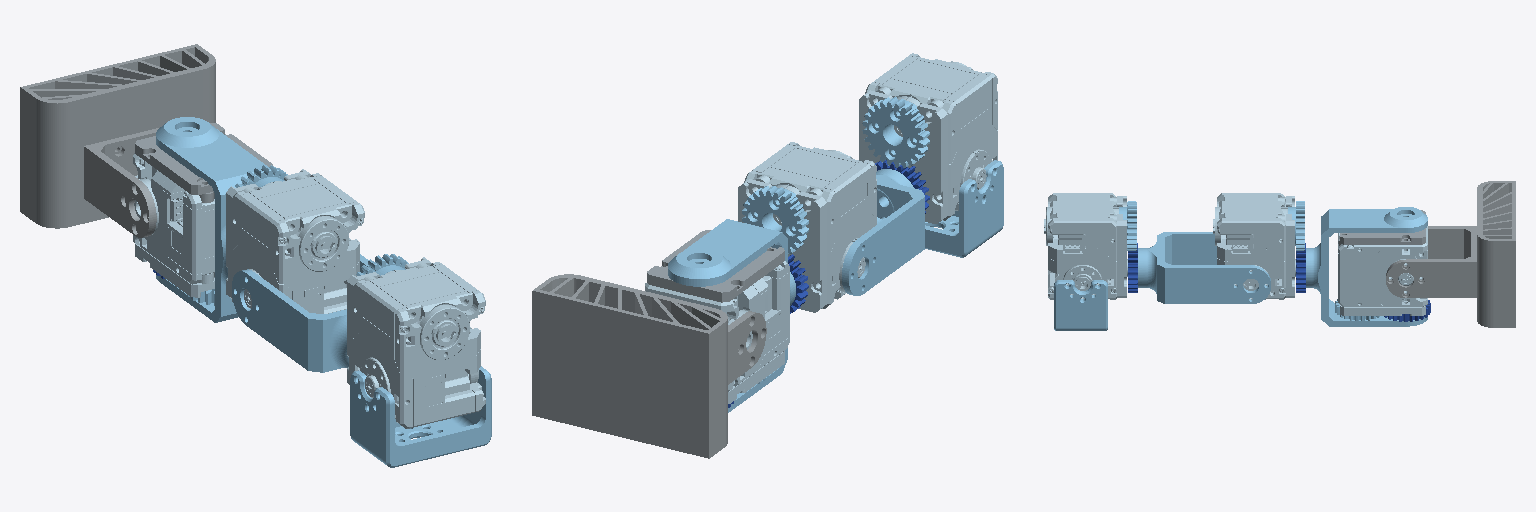
URDF robot description (right_arm_umi):
<?xml version="1.0" ?><robot name="right_arm_umi">  
  <link name="sho_pitch_link">    
    <visual>      
      <origin xyz="0 0 0" rpy="0 -0 0"/>      
      <geometry>        
        <mesh filename="package:///meshes/right_sho_pitch_link_visual.stl"/>        
      </geometry>      
      <material name="sho_pitch_link_material">        
        <color rgba="0.61568627450980395466 0.81176470588235294379 0.92941176470588227065 1.0"/>        
      </material>      
    </visual>    
    <collision>      
      <origin xyz="0 0 0" rpy="0 -0 0"/>      
      <geometry>        
        <mesh filename="package:///meshes/right_sho_pitch_link_collision.stl"/>        
      </geometry>      
    </collision>    
    <inertial>      
      <origin xyz="5.8254248488936148346e-11 -5.1264642561121013175e-05 0.0082440788127094866838" rpy="0 0 0"/>      
      <mass value="0.0085999999999999948014"/>      
      <inertia ixx="1.2272887040545789755e-06" ixy="-2.1429944218861188293e-14" ixz="-8.5847198874678704984e-15" iyy="2.9107306060364611617e-06" iyz="7.4623841398182935117e-09" izz="3.0803135950773483457e-06"/>      
    </inertial>    
  </link>  

  <link name="2xl430_gears">    
    <visual>      
      <origin xyz="0 0 0" rpy="0 -0 0"/>      
      <geometry>        
        <mesh filename="package:///meshes/right_2xl430_gears_visual.stl"/>        
      </geometry>      
      <material name="2xl430_gears_material">        
        <color rgba="0.75605985687944088358 0.8580469596269301169 0.91320266199377453376 1.0"/>        
      </material>      
    </visual>    
    <collision>      
      <origin xyz="0 0 0" rpy="0 -0 0"/>      
      <geometry>        
        <mesh filename="package:///meshes/right_2xl430_gears_collision.stl"/>        
      </geometry>      
    </collision>    
    <inertial>      
      <origin xyz="-0.01157940398103430267 -0.0024225766141400448782 -0.018551095523803726173" rpy="0 0 0"/>      
      <mass value="0.11800003674524907338"/>      
      <inertia ixx="2.7482298083236302076e-05" ixy="9.2729623432968067728e-07" ixz="-2.2634512004040956434e-08" iyy="3.2770742486672703063e-05" iyz="-6.5708346020122205624e-07" izz="3.576795754405448258e-05"/>      
    </inertial>    
  </link>  

  <link name="spur_1m_24t_drive">    
    <visual>      
      <origin xyz="0 0 0" rpy="0 -0 0"/>      
      <geometry>        
        <mesh filename="package:///meshes/right_spur_1m_24t_drive_visual.stl"/>        
      </geometry>      
      <material name="spur_1m_24t_drive_material">        
        <color rgba="0.61568627450980406568 0.81176470588235294379 0.92941176470588238168 1.0"/>        
      </material>      
    </visual>    
    <collision>      
      <origin xyz="0 0 0" rpy="0 -0 0"/>      
      <geometry>        
        <mesh filename="package:///meshes/right_spur_1m_24t_drive_collision.stl"/>        
      </geometry>      
    </collision>    
    <inertial>      
      <origin xyz="-7.7519812112133453554e-15 -1.211739839181388264e-16 0.0047949116178401416863" rpy="0 0 0"/>      
      <mass value="0.0032000000000000001533"/>      
      <inertia ixx="1.4019331346159887702e-07" ixy="1.6002409988709471321e-15" ixz="3.9304399768732877458e-37" iyy="1.4019331260388783538e-07" iyz="-1.2977944534665672243e-36" izz="2.3838919844264055353e-07"/>      
    </inertial>    
  </link>  

  <joint name="right_sho_yaw_drive" type="revolute">    
    <origin xyz="-0.024000000716138260304 -0.019000000152445337132 -0.019000000152448428409" rpy="1.5707963267949289765 -7.4062049324254792929e-14 1.9645226351351914911e-14"/>    
    <parent link="2xl430_gears"/>    
    <child link="spur_1m_24t_drive"/>    
    <axis xyz="0 0 1"/>    
    <limit effort="1" velocity="20" lower="-2.6179938779914944114" upper="2.6179938779914944114"/>    
    <joint_properties friction="0.0"/>    
  </joint>  

  <link name="spur_1m_24t_driven">    
    <visual>      
      <origin xyz="0 0 0" rpy="0 -0 0"/>      
      <geometry>        
        <mesh filename="package:///meshes/right_spur_1m_24t_driven_visual.stl"/>        
      </geometry>      
      <material name="spur_1m_24t_driven_material">        
        <color rgba="0.23137254901960788156 0.38039215686274507888 0.7058823529411765163 1.0"/>        
      </material>      
    </visual>    
    <collision>      
      <origin xyz="0 0 0" rpy="0 -0 0"/>      
      <geometry>        
        <mesh filename="package:///meshes/right_spur_1m_24t_driven_collision.stl"/>        
      </geometry>      
    </collision>    
    <inertial>      
      <origin xyz="1.9568650841840569678e-18 -5.8047591274094464977e-15 -0.00097054817521928168911" rpy="0 0 0"/>      
      <mass value="0.0027000000000000001429"/>      
      <inertia ixx="1.2036234079571068356e-07" ixy="0" ixz="0" iyy="1.203623407957104718e-07" iyz="-3.1156039432683315858e-37" izz="2.2847261745924537963e-07"/>      
    </inertial>    
  </link>  

  <link name="sho_yaw_link">    
    <visual>      
      <origin xyz="0 0 0" rpy="0 -0 0"/>      
      <geometry>        
        <mesh filename="package:///meshes/right_sho_yaw_link_visual.stl"/>        
      </geometry>      
      <material name="sho_yaw_link_material">        
        <color rgba="0.61568627450980395466 0.81176470588235294379 0.92941176470588238168 1.0"/>        
      </material>      
    </visual>    
    <collision>      
      <origin xyz="0 0 0" rpy="0 -0 0"/>      
      <geometry>        
        <mesh filename="package:///meshes/right_sho_yaw_link_collision.stl"/>        
      </geometry>      
    </collision>    
    <inertial>      
      <origin xyz="-1.2817564279971509767e-18 3.4652731864608208346e-18 -0.024303257848520165574" rpy="0 0 0"/>      
      <mass value="0.01450000000000000594"/>      
      <inertia ixx="9.084667005304133196e-06" ixy="3.6224092806478127158e-13" ixz="3.9531863547364856443e-44" iyy="5.6910950712097499617e-06" iyz="-5.7484978336446655927e-36" izz="4.4819609845548958989e-06"/>      
    </inertial>    
  </link>  

  <link name="2xl430_gears_2">    
    <visual>      
      <origin xyz="0 0 0" rpy="0 -0 0"/>      
      <geometry>        
        <mesh filename="package:///meshes/right_2xl430_gears_2_visual.stl"/>        
      </geometry>      
      <material name="2xl430_gears_2_material">        
        <color rgba="0.75605985687944088358 0.8580469596269301169 0.91320266199377453376 1.0"/>        
      </material>      
    </visual>    
    <collision>      
      <origin xyz="0 0 0" rpy="0 -0 0"/>      
      <geometry>        
        <mesh filename="package:///meshes/right_2xl430_gears_2_collision.stl"/>        
      </geometry>      
    </collision>    
    <inertial>      
      <origin xyz="-0.011579403981040211138 -0.0024225766141398297725 -0.018551095523805887638" rpy="0 0 0"/>      
      <mass value="0.11800003674524907338"/>      
      <inertia ixx="2.7482298083237701375e-05" ixy="9.2729623432883406785e-07" ixz="-2.2634512003742370703e-08" iyy="3.2770742486673692397e-05" iyz="-6.5708346020153175266e-07" izz="3.5767957544055729413e-05"/>      
    </inertial>    
  </link>  

  <link name="spur_1m_24t_drive_2">    
    <visual>      
      <origin xyz="0 0 0" rpy="0 -0 0"/>      
      <geometry>        
        <mesh filename="package:///meshes/right_spur_1m_24t_drive_2_visual.stl"/>        
      </geometry>      
      <material name="spur_1m_24t_drive_2_material">        
        <color rgba="0.61568627450980406568 0.81176470588235294379 0.92941176470588238168 1.0"/>        
      </material>      
    </visual>    
    <collision>      
      <origin xyz="0 0 0" rpy="0 -0 0"/>      
      <geometry>        
        <mesh filename="package:///meshes/right_spur_1m_24t_drive_2_collision.stl"/>        
      </geometry>      
    </collision>    
    <inertial>      
      <origin xyz="-7.7519812112133453554e-15 -1.2117398391813862919e-16 0.0047949116178401382168" rpy="0 0 0"/>      
      <mass value="0.0032000000000000001533"/>      
      <inertia ixx="1.4019331346159887702e-07" ixy="1.6002409935589451508e-15" ixz="1.166776181933880567e-37" iyy="1.4019331260388780891e-07" iyz="2.2883938147335335647e-36" izz="2.3838919844264055353e-07"/>      
    </inertial>    
  </link>  

  <joint name="right_elbow_yaw_drive" type="revolute">    
    <origin xyz="-0.024000000716147166374 -0.019000000152450874369 -0.019000000152450291502" rpy="1.5707963267949573982 3.0456550330441217593e-14 -3.9968028886506279166e-14"/>    
    <parent link="2xl430_gears_2"/>    
    <child link="spur_1m_24t_drive_2"/>    
    <axis xyz="0 0 1"/>    
    <limit effort="1" velocity="20" lower="-2.6179938779914944114" upper="2.6179938779914944114"/>    
    <joint_properties friction="0.0"/>    
  </joint>  

  <link name="spur_1m_24t_driven_2">    
    <visual>      
      <origin xyz="0 0 0" rpy="0 -0 0"/>      
      <geometry>        
        <mesh filename="package:///meshes/right_spur_1m_24t_driven_2_visual.stl"/>        
      </geometry>      
      <material name="spur_1m_24t_driven_2_material">        
        <color rgba="0.23137254901960788156 0.38039215686274507888 0.7058823529411765163 1.0"/>        
      </material>      
    </visual>    
    <collision>      
      <origin xyz="0 0 0" rpy="0 -0 0"/>      
      <geometry>        
        <mesh filename="package:///meshes/right_spur_1m_24t_driven_2_collision.stl"/>        
      </geometry>      
    </collision>    
    <inertial>      
      <origin xyz="5.4263120361376707715e-18 -5.8047591274094472866e-15 -0.000970548175219288628" rpy="0 0 0"/>      
      <mass value="0.0027000000000000001429"/>      
      <inertia ixx="1.2036234079571068356e-07" ixy="3.7979658045849632459e-37" ixz="-4.956848099685618152e-67" iyy="1.203623407957104718e-07" iyz="-1.5073873856093740603e-36" izz="2.2847261745924537963e-07"/>      
    </inertial>    
  </link>  

  <link name="elb_yaw_link">    
    <visual>      
      <origin xyz="0 0 0" rpy="0 -0 0"/>      
      <geometry>        
        <mesh filename="package:///meshes/right_elb_yaw_link_visual.stl"/>        
      </geometry>      
      <material name="elb_yaw_link_material">        
        <color rgba="0.61568627450980395466 0.81176470588235294379 0.9294117647058824927 1.0"/>        
      </material>      
    </visual>    
    <collision>      
      <origin xyz="0 0 0" rpy="0 -0 0"/>      
      <geometry>        
        <mesh filename="package:///meshes/right_elb_yaw_link_collision.stl"/>        
      </geometry>      
    </collision>    
    <inertial>      
      <origin xyz="5.3127688027867315284e-08 0.0019833638641961652896 -0.023416643551549955887" rpy="0 0 0"/>      
      <mass value="0.017499999999999998196"/>      
      <inertia ixx="1.4134344903109199776e-05" ixy="1.6945783922045876267e-12" ixz="-1.1286398721773278415e-11" iyy="6.6435900776211331934e-06" iyz="1.0545227077253057579e-06" izz="8.9925290757998976773e-06"/>      
    </inertial>    
  </link>  

  <link name="spur_1m_24t_driven_3">    
    <visual>      
      <origin xyz="0 0 0" rpy="0 -0 0"/>      
      <geometry>        
        <mesh filename="package:///meshes/right_spur_1m_24t_driven_3_visual.stl"/>        
      </geometry>      
      <material name="spur_1m_24t_driven_3_material">        
        <color rgba="0.23137254901960788156 0.38039215686274507888 0.7058823529411765163 1.0"/>        
      </material>      
    </visual>    
    <collision>      
      <origin xyz="0 0 0" rpy="0 -0 0"/>      
      <geometry>        
        <mesh filename="package:///meshes/right_spur_1m_24t_driven_3_collision.stl"/>        
      </geometry>      
    </collision>    
    <inertial>      
      <origin xyz="2.9712440699812971634e-17 -5.80475912740944492e-15 -0.0025705481752192789469" rpy="0 0 0"/>      
      <mass value="0.0027000000000000001429"/>      
      <inertia ixx="1.2036234079571068356e-07" ixy="1.1860558623246110089e-36" ixz="-1.8989829022924849639e-37" iyy="1.203623407957104718e-07" iyz="-6.4797105157282552736e-67" izz="2.2847261745924537963e-07"/>      
    </inertial>    
  </link>  

  <link name="2xl430_gears_3">    
    <visual>      
      <origin xyz="0 0 0" rpy="0 -0 0"/>      
      <geometry>        
        <mesh filename="package:///meshes/right_2xl430_gears_3_visual.stl"/>        
      </geometry>      
      <material name="2xl430_gears_3_material">        
        <color rgba="0.75605985687944088358 0.8580469596269301169 0.91320266199377453376 1.0"/>        
      </material>      
    </visual>    
    <collision>      
      <origin xyz="0 0 0" rpy="0 -0 0"/>      
      <geometry>        
        <mesh filename="package:///meshes/right_2xl430_gears_3_collision.stl"/>        
      </geometry>      
    </collision>    
    <inertial>      
      <origin xyz="0.00044890447620014861923 0.011579403622967368928 -0.024577423538309432771" rpy="0 0 0"/>      
      <mass value="0.11800003674524907338"/>      
      <inertia ixx="3.5767957544056257961e-05" ixy="2.26345120036786414e-08" ixz="6.5708346020106620218e-07" iyy="2.7482298083237542132e-05" iyz="9.2729623433015798034e-07" izz="3.277074248667319773e-05"/>      
    </inertial>    
  </link>  

  <link name="spur_1m_24t_drive_3">    
    <visual>      
      <origin xyz="0 0 0" rpy="0 -0 0"/>      
      <geometry>        
        <mesh filename="package:///meshes/right_spur_1m_24t_drive_3_visual.stl"/>        
      </geometry>      
      <material name="spur_1m_24t_drive_3_material">        
        <color rgba="0.61568627450980406568 0.81176470588235294379 0.92941176470588238168 1.0"/>        
      </material>      
    </visual>    
    <collision>      
      <origin xyz="0 0 0" rpy="0 -0 0"/>      
      <geometry>        
        <mesh filename="package:///meshes/right_spur_1m_24t_drive_3_collision.stl"/>        
      </geometry>      
    </collision>    
    <inertial>      
      <origin xyz="-7.7519812112133469331e-15 -1.2117398394398822055e-16 0.004794911617840143421" rpy="0 0 0"/>      
      <mass value="0.0032000000000000001533"/>      
      <inertia ixx="1.4019331346159890349e-07" ixy="1.600241000902533359e-15" ixz="5.2970568590852521004e-37" iyy="1.4019331260388788832e-07" iyz="-7.8193745626505839794e-37" izz="2.3838919844264055353e-07"/>      
    </inertial>    
  </link>  

  <joint name="right_wrist_pitch_drive" type="revolute">    
    <origin xyz="-1.524431251168157451e-10 0.024000000358071760242 -0.0080000000000008727324" rpy="1.2483159056318501391e-14 7.3485321852726251993e-14 -1.5707963267948599206"/>    
    <parent link="2xl430_gears_3"/>    
    <child link="spur_1m_24t_drive_3"/>    
    <axis xyz="0 0 1"/>    
    <limit effort="1" velocity="20" lower="-1.3962634015954635824" upper="1.9198621771937625091"/>    
    <joint_properties friction="0.0"/>    
  </joint>  

  <link name="hand">    
    <visual>      
      <origin xyz="0 0 0" rpy="0 -0 0"/>      
      <geometry>        
        <mesh filename="package:///meshes/right_hand_visual.stl"/>        
      </geometry>      
      <material name="hand_material">        
        <color rgba="0.6414991312980887761 0.67624720774385704836 0.69709605361131787848 1.0"/>        
      </material>      
    </visual>    
    <collision>      
      <origin xyz="0 0 0" rpy="0 -0 0"/>      
      <geometry>        
        <mesh filename="package:///meshes/right_hand_collision.stl"/>        
      </geometry>      
    </collision>    
    <inertial>      
      <origin xyz="0.0037078693754091771907 -0.042127339671143439193 -0.019509671728381142858" rpy="0 0 0"/>      
      <mass value="0.039500000000000000389"/>      
      <inertia ixx="2.4635502047219017501e-05" ixy="6.2323015740443360545e-07" ixz="1.439144773675223025e-08" iyy="2.5475207221933727077e-05" iyz="-4.0870433587618317823e-08" izz="1.3466679249845197179e-05"/>      
    </inertial>    
  </link>  

  <joint name="right_wrist_roll" type="revolute">    
    <origin xyz="0.019000000000002757738 -3.5806788090120278412e-10 -0.02700000015244990309" rpy="-1.9648186021258132771e-29 1.570796326794851927 0"/>    
    <parent link="2xl430_gears_3"/>    
    <child link="hand"/>    
    <axis xyz="0 0 1"/>    
    <limit effort="1" velocity="20" lower="-1.3962634015954635824" upper="1.9198621771937625091"/>    
    <joint_properties friction="0.0"/>    
  </joint>  

  <link name="wrist_bearing_plate">    
    <visual>      
      <origin xyz="0 0 0" rpy="0 -0 0"/>      
      <geometry>        
        <mesh filename="package:///meshes/right_wrist_bearing_plate_visual.stl"/>        
      </geometry>      
      <material name="wrist_bearing_plate_material">        
        <color rgba="0.64496316278892629192 0.69011804996940517842 0.71706771073555874985 1.0"/>        
      </material>      
    </visual>    
    <collision>      
      <origin xyz="0 0 0" rpy="0 -0 0"/>      
      <geometry>        
        <mesh filename="package:///meshes/right_wrist_bearing_plate_collision.stl"/>        
      </geometry>      
    </collision>    
    <inertial>      
      <origin xyz="-0.0075835583121499801351 -0.015499999999999973868 -0.0018386323705903296743" rpy="0 0 0"/>      
      <mass value="0.0049000367468305557062"/>      
      <inertia ixx="4.9707430109150118544e-07" ixy="4.4786224830671674947e-23" ixz="1.8100904820814101422e-08" iyy="7.1268523603538584823e-07" iyz="3.6315498546128718786e-24" izz="1.1919657811600109234e-06"/>      
    </inertial>    
  </link>  

  <joint name="right_wrist_pitch_fixed" type="fixed">    
    <origin xyz="0.015500000000003956793 4.5519144009631418157e-15 -0.045000000000003724521" rpy="-3.0531133177156822825e-15 1.2051470932306205513e-13 -1.570796326794896558"/>    
    <parent link="2xl430_gears_3"/>    
    <child link="wrist_bearing_plate"/>    
    <axis xyz="0 0 1"/>    
    <limit effort="1" velocity="20"/>    
    <joint_properties friction="0.0"/>    
  </joint>  

  <joint name="right_wrist_pitch_driven" type="revolute">    
    <origin xyz="2.7755575615628913511e-17 7.0997481469891062487e-30 -0.0015999999999999970409" rpy="-3.8285686988021856593e-16 -1.2621774483536197294e-29 1.570796326794896558"/>    
    <parent link="spur_1m_24t_driven_3"/>    
    <child link="2xl430_gears_3"/>    
    <axis xyz="0 0 1"/>    
    <limit effort="1" velocity="20" lower="-1.9198621771937625091" upper="1.3962634015954635824"/>    
    <joint_properties friction="0.0"/>    
  </joint>  

  <joint name="right_wrist_roll_fixed" type="fixed">    
    <origin xyz="-7.8886090522101180541e-31 -0.025299999999999999573 -0.051999999999999976796" rpy="1.570796326794896558 1.570796326794896558 0"/>    
    <parent link="elb_yaw_link"/>    
    <child link="spur_1m_24t_driven_3"/>    
    <axis xyz="0 0 1"/>    
    <limit effort="1" velocity="20"/>    
    <joint_properties friction="0.0"/>    
  </joint>  

  <joint name="right_elbow_yaw_fixed" type="fixed">    
    <origin xyz="0 7.8886090522101180541e-31 0.0015999999999999903189" rpy="3.141592653589793116 5.5511151240344703462e-17 -1.57079632679489678"/>    
    <parent link="spur_1m_24t_driven_2"/>    
    <child link="elb_yaw_link"/>    
    <axis xyz="0 0 1"/>    
    <limit effort="1" velocity="20"/>    
    <joint_properties friction="0.0"/>    
  </joint>  

  <joint name="right_elbow_yaw_driven" type="revolute">    
    <origin xyz="-3.5807123932585227521e-10 -0.027000000152452963142 -0.019000000000002556511" rpy="1.5707963267949576203 3.0519690799675378401e-14 -4.0239863453830675462e-14"/>    
    <parent link="2xl430_gears_2"/>    
    <child link="spur_1m_24t_driven_2"/>    
    <axis xyz="0 0 1"/>    
    <limit effort="1" velocity="20" lower="-2.6179938779914944114" upper="2.6179938779914944114"/>    
    <joint_properties friction="0.0"/>    
  </joint>  

  <joint name="right_elbow_roll" type="revolute">    
    <origin xyz="-1.7347234759768070944e-17 -0.019000000000000159123 -0.059000000000000135669" rpy="1.5707963267948952257 -4.3465231414242792334e-14 -2.6978419498660684154e-14"/>    
    <parent link="sho_yaw_link"/>    
    <child link="2xl430_gears_2"/>    
    <axis xyz="0 0 1"/>    
    <limit effort="1" velocity="20" lower="-1.9198621771937625091" upper="2.4434609527920612138"/>    
    <joint_properties friction="0.0"/>    
  </joint>  

  <joint name="right_sho_yaw_fixed" type="fixed">    
    <origin xyz="-3.4694469519536141888e-18 3.9443045261050590271e-31 0.0016000000000000041966" rpy="3.141592653589793116 -5.0487097934144755546e-29 -1.8301573001127473886e-28"/>    
    <parent link="spur_1m_24t_driven"/>    
    <child link="sho_yaw_link"/>    
    <axis xyz="0 0 1"/>    
    <limit effort="1" velocity="20"/>    
    <joint_properties friction="0.0"/>    
  </joint>  

  <joint name="right_sho_yaw_driven" type="revolute">    
    <origin xyz="-3.5806844642105595256e-10 -0.02700000015244657936 -0.019000000000003233053" rpy="1.5707963267949260899 -2.2055090607973039157e-14 7.6050277186033683693e-15"/>    
    <parent link="2xl430_gears"/>    
    <child link="spur_1m_24t_driven"/>    
    <axis xyz="0 0 1"/>    
    <limit effort="1" velocity="20" lower="-2.6179938779914944114" upper="2.6179938779914944114"/>    
    <joint_properties friction="0.0"/>    
  </joint>  

  <joint name="right_sho_roll" type="revolute">    
    <origin xyz="-0.0190000000000000481 0.0010000000000000234396 0.026999999999999982347" rpy="3.141592653589793116 1.5707963267948952257 0"/>    
    <parent link="sho_pitch_link"/>    
    <child link="2xl430_gears"/>    
    <axis xyz="0 0 1"/>    
    <limit effort="1" velocity="20" lower="-1.570796326794896558" upper="0.34906585039886589561"/>    
    <joint_properties friction="0.0"/>    
  </joint>  


</robot>

--- What the picture shows (computed from the rendered views, not written in the file) ---
Views: 3 orthographic renders of the robot side by side, from view 1: azimuth 30°, elevation 25°; view 2: azimuth 150°, elevation 25°; view 3: azimuth 270°, elevation 25°.
Robot: right_arm_umi — 14 links, 13 joints (9 revolute, 4 fixed); root link sho_pitch_link; default pose: all joints at 0.
Links seen in each view (by area): view 1: hand, 2xl430_gears, 2xl430_gears_2, 2xl430_gears_3, sho_pitch_link, elb_yaw_link, sho_yaw_link, wrist_bearing_plate, spur_1m_24t_drive, spur_1m_24t_drive_2; view 2: hand, 2xl430_gears, 2xl430_gears_2, sho_yaw_link, elb_yaw_link, 2xl430_gears_3, sho_pitch_link, spur_1m_24t_drive, wrist_bearing_plate, spur_1m_24t_drive_2, spur_1m_24t_driven_2, spur_1m_24t_driven; view 3: hand, 2xl430_gears, sho_yaw_link, 2xl430_gears_2, 2xl430_gears_3, elb_yaw_link, sho_pitch_link, wrist_bearing_plate, spur_1m_24t_drive, spur_1m_24t_drive_2.
Link boxes in pixels (<box>): hand: <box>20,44,215,237</box>; 2xl430_gears: <box>347,257,485,428</box>; 2xl430_gears_2: <box>226,169,364,313</box>; 2xl430_gears_3: <box>133,153,214,297</box>; sho_pitch_link: <box>350,366,491,467</box>; elb_yaw_link: <box>156,117,267,322</box>; sho_yaw_link: <box>232,254,368,372</box>; wrist_bearing_plate: <box>135,123,272,202</box>; spur_1m_24t_drive: <box>356,254,408,275</box>; spur_1m_24t_drive_2: <box>235,165,287,187</box>; hand: <box>532,274,766,458</box>; 2xl430_gears: <box>859,53,997,223</box>; 2xl430_gears_2: <box>738,142,876,312</box>; sho_yaw_link: <box>842,169,924,295</box>; elb_yaw_link: <box>668,219,795,412</box>; 2xl430_gears_3: <box>645,261,789,403</box>; sho_pitch_link: <box>925,160,1003,257</box>; spur_1m_24t_drive: <box>862,97,929,167</box>; wrist_bearing_plate: <box>647,230,784,302</box>; spur_1m_24t_drive_2: <box>742,186,808,253</box>; spur_1m_24t_driven_2: <box>788,254,808,313</box>; spur_1m_24t_driven: <box>875,160,929,213</box>; hand: <box>1386,181,1515,327</box>; 2xl430_gears: <box>1044,193,1127,299</box>; sho_yaw_link: <box>1138,232,1270,303</box>; 2xl430_gears_2: <box>1213,193,1295,299</box>; 2xl430_gears_3: <box>1338,226,1427,315</box>; elb_yaw_link: <box>1306,207,1427,326</box>; sho_pitch_link: <box>1054,280,1107,330</box>; wrist_bearing_plate: <box>1339,210,1425,245</box>; spur_1m_24t_drive: <box>1119,201,1136,250</box>; spur_1m_24t_drive_2: <box>1288,201,1304,250</box>.
Bounding box of the posed robot: 0.074 × 0.2452 × 0.0652 m (x, y, z).
Meshes: 14 distinct files referenced, 14 mesh visuals loaded (14 binary STL).